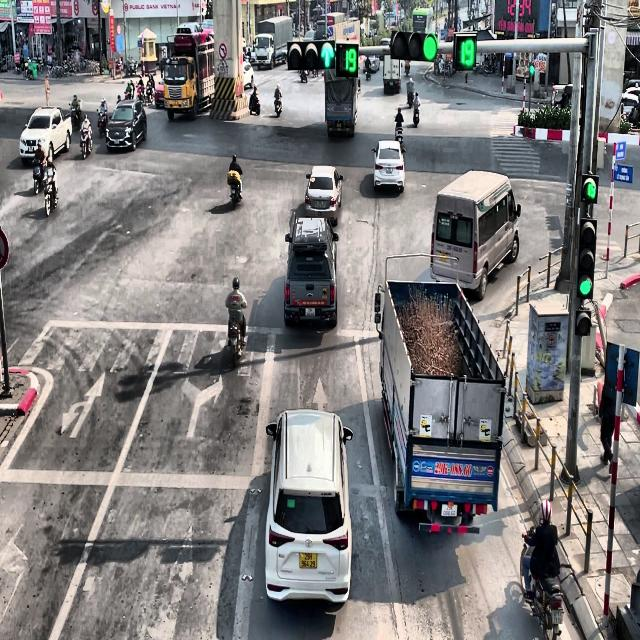lisence_plate: (298, 550, 317, 570), (299, 304, 320, 320), (440, 502, 458, 517), (446, 243, 464, 253), (304, 306, 315, 317), (439, 252, 447, 262), (316, 199, 324, 209), (386, 167, 394, 176), (336, 123, 342, 129), (389, 80, 394, 86)
